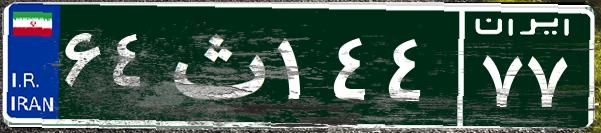1: (273, 28, 330, 110)
4: (385, 28, 445, 110), (330, 28, 385, 110), (110, 28, 158, 105)
6: (57, 26, 110, 107)
7: (475, 38, 525, 113), (525, 38, 570, 115)
ث: (158, 15, 273, 115)
